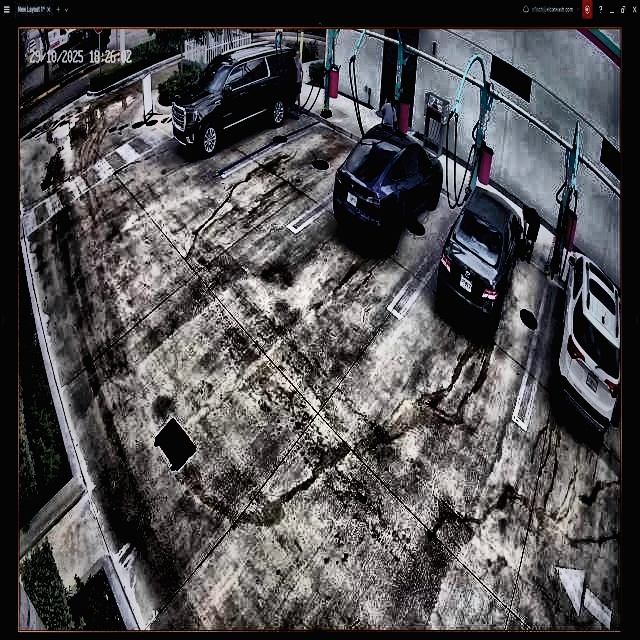Car: (334, 124, 443, 246), (439, 185, 522, 325)
